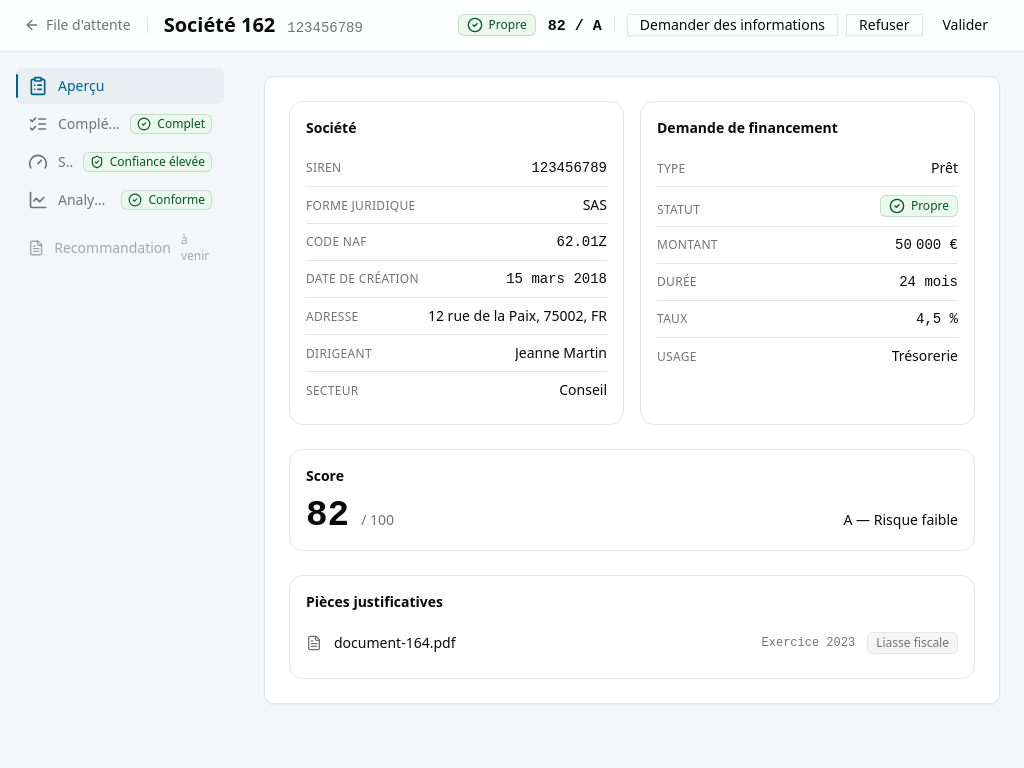
Test: Workspace — section navigation › switches the main content when a sidebar section is selected
Expected: the element named "Aperçu du dossier" is shown, top-left (289, 100), bottom-right (975, 678)
Click the button "Score Confiance élevée".
click(120, 162)  # box top-left (16, 144), bottom-right (224, 180)
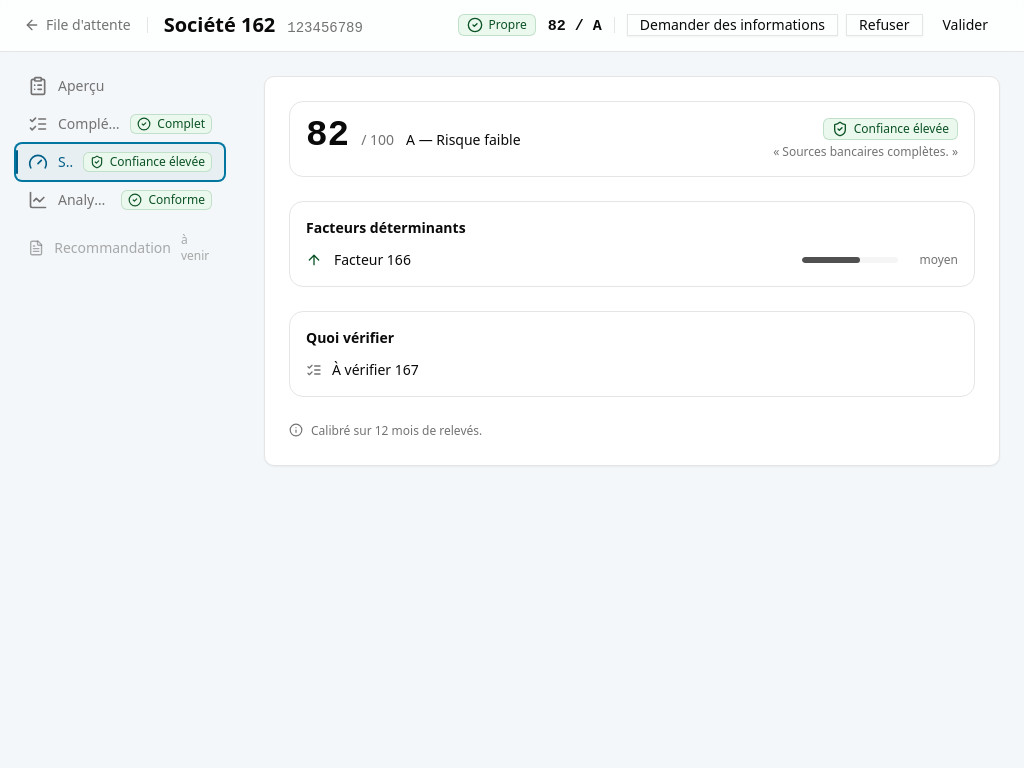
Expected: the element named "Score" is shown, top-left (289, 100), bottom-right (975, 440)
